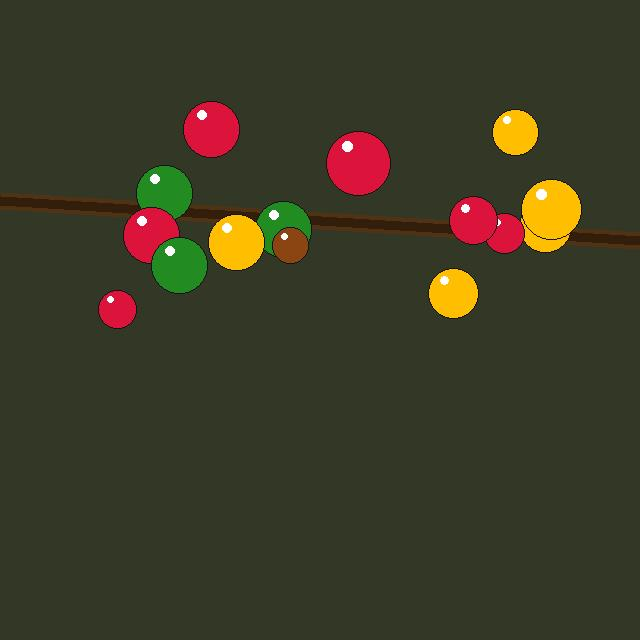Overripe: (272, 227, 308, 263)
Ripe: (326, 131, 390, 195), (183, 101, 239, 157), (123, 207, 179, 263), (449, 196, 497, 244), (484, 213, 524, 253), (98, 290, 136, 328)
Ripening: (521, 179, 581, 239), (208, 214, 264, 270), (519, 200, 571, 252), (428, 268, 478, 318), (492, 109, 538, 155)
Unripe: (255, 201, 311, 257), (136, 165, 192, 221), (151, 237, 207, 293)
